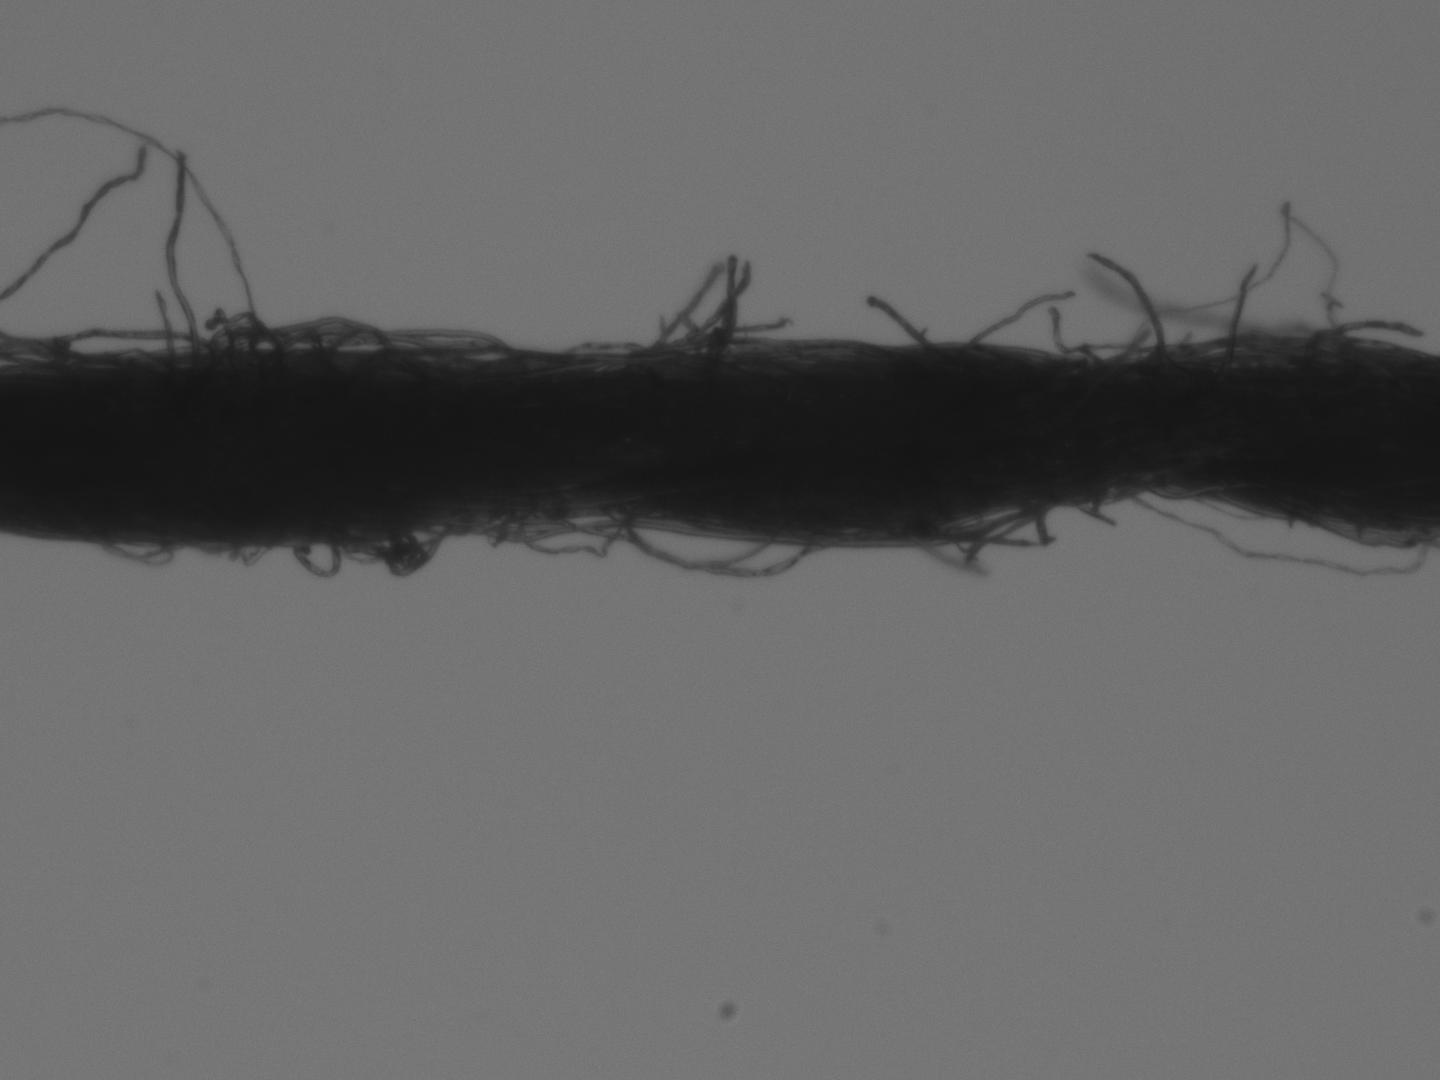loop_fiber: (618, 522, 825, 576), (610, 515, 766, 565), (341, 328, 505, 368), (339, 516, 442, 576), (906, 499, 1049, 541), (517, 508, 628, 558), (262, 315, 383, 356), (51, 329, 209, 358), (210, 313, 276, 353), (95, 535, 169, 562), (565, 336, 634, 360), (1144, 481, 1218, 501), (293, 542, 329, 576)
protruding_fiber: (1, 147, 147, 293), (1090, 251, 1166, 365), (168, 150, 203, 354), (643, 264, 722, 348), (965, 289, 1068, 347), (1307, 318, 1423, 347), (1222, 264, 1255, 361), (865, 292, 918, 347), (153, 295, 167, 356)
